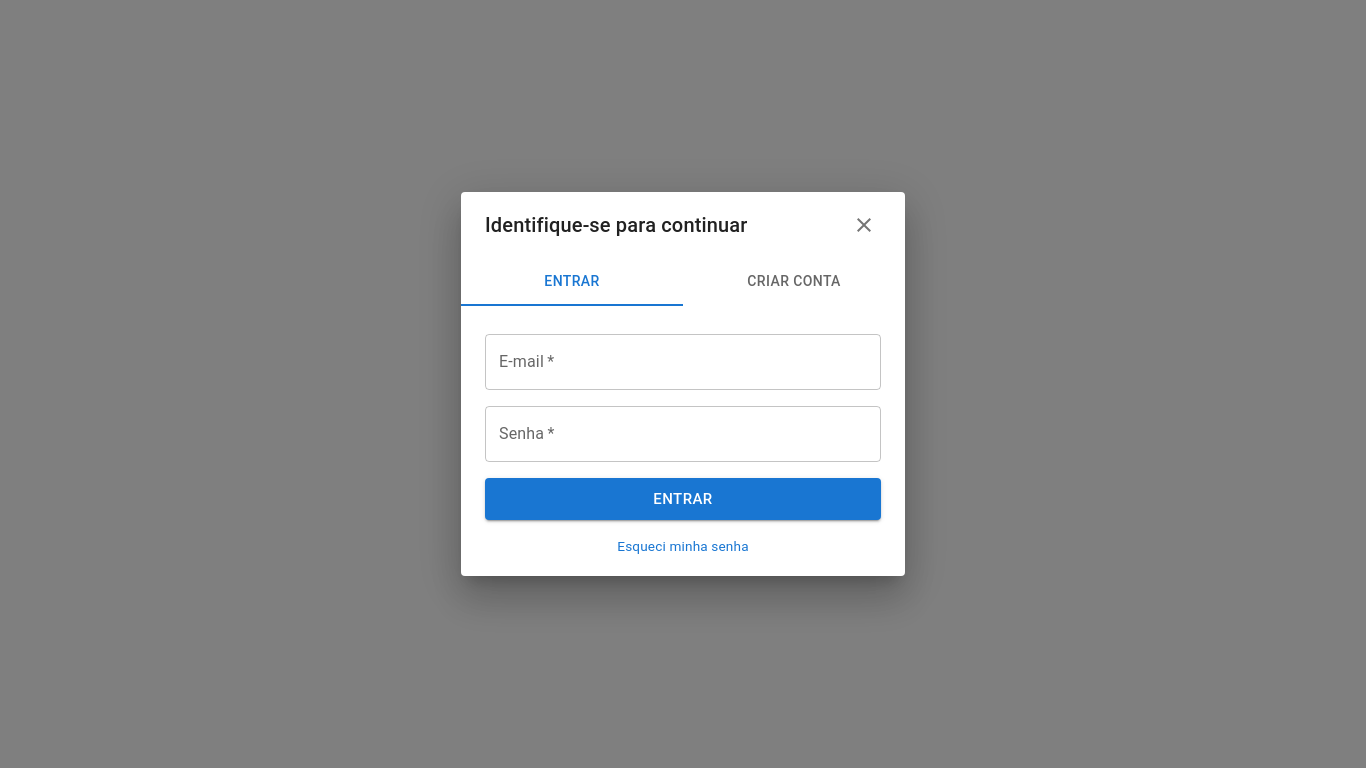
Test case: AuthDialog › mostra a mensagem de erro quando o login falha
Type "ana@example.com" into the field labelled "E-mail" at (683, 362), box [485,334,881,390]
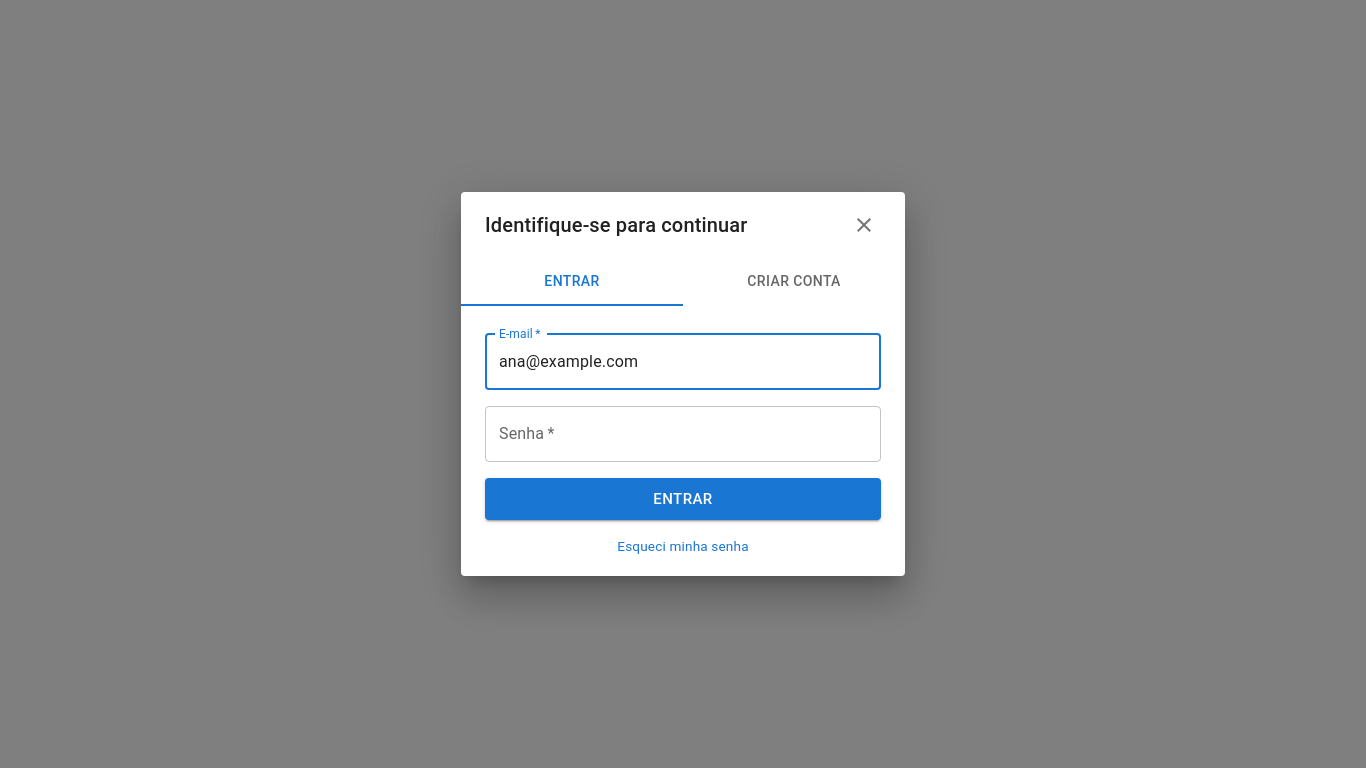
Type "senhaErrada" into the password field labelled "Senha" at (683, 434), box [485,406,881,462]
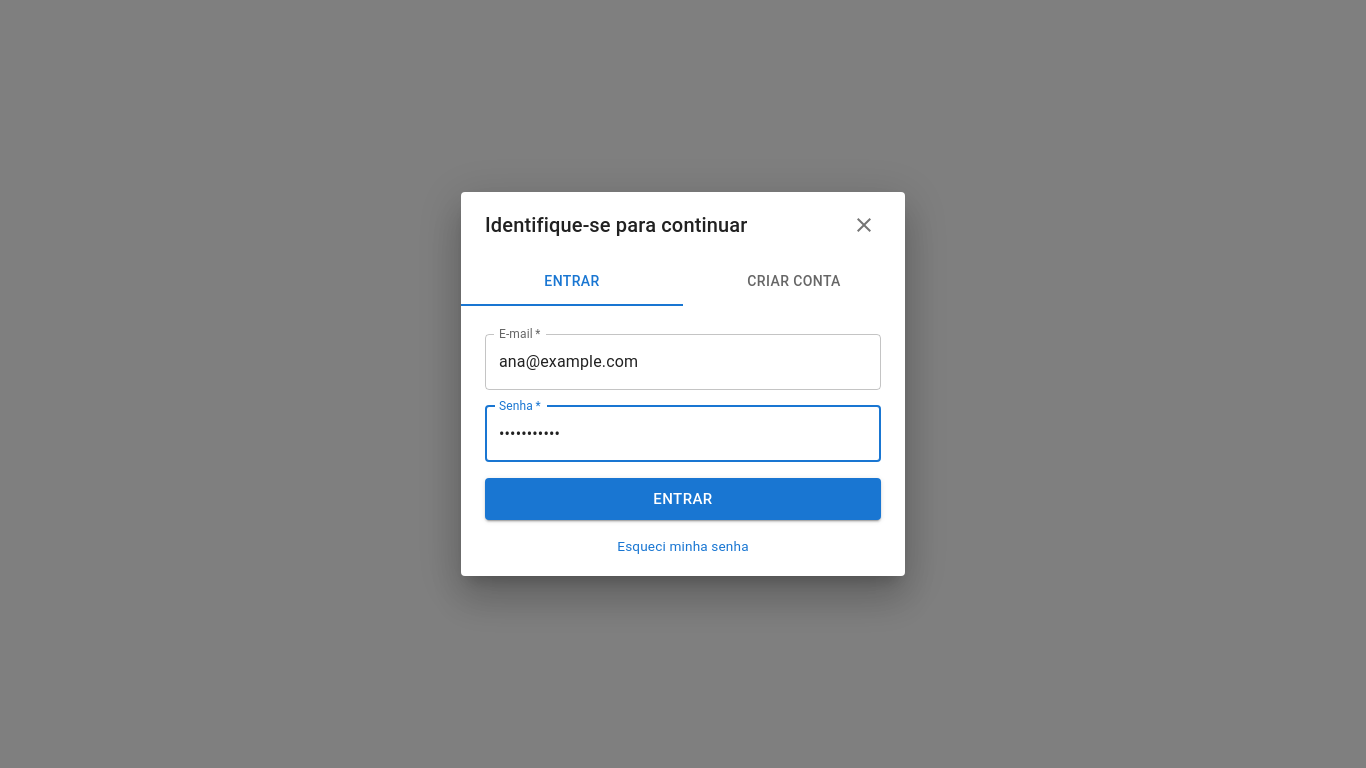
Click the button "Entrar" at (683, 499), box [485,478,881,520]
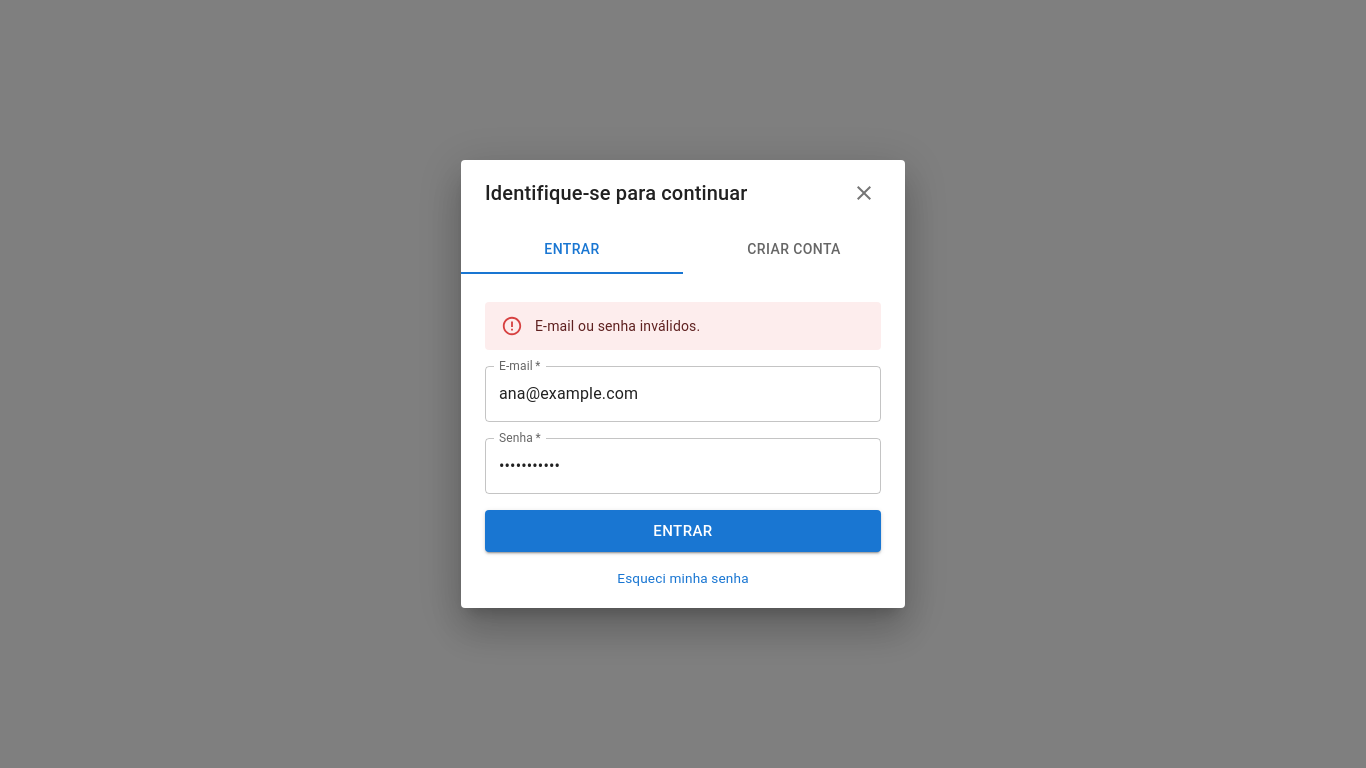
Result: the text "E-mail ou senha inválidos." is shown at [535,318,700,334]
